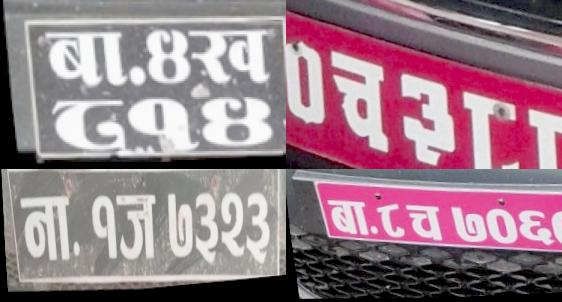0: (286, 35, 333, 129), (481, 205, 517, 248), (546, 208, 562, 249)
1: (118, 91, 198, 159), (85, 186, 118, 272)
2: (216, 188, 246, 270)
3: (386, 71, 461, 169), (240, 188, 272, 270), (190, 190, 220, 274)
4: (189, 92, 275, 158), (134, 29, 193, 93)
6: (514, 208, 554, 251)
7: (163, 186, 195, 266), (445, 205, 487, 245)
8: (445, 88, 528, 169), (40, 93, 129, 160), (512, 102, 562, 169), (371, 200, 409, 240)
ba: (38, 25, 134, 98), (323, 196, 370, 237)
cha: (321, 43, 396, 158), (401, 201, 446, 244)
ja: (112, 184, 160, 271)
ka: (14, 181, 74, 274)
kha: (184, 23, 278, 97)
